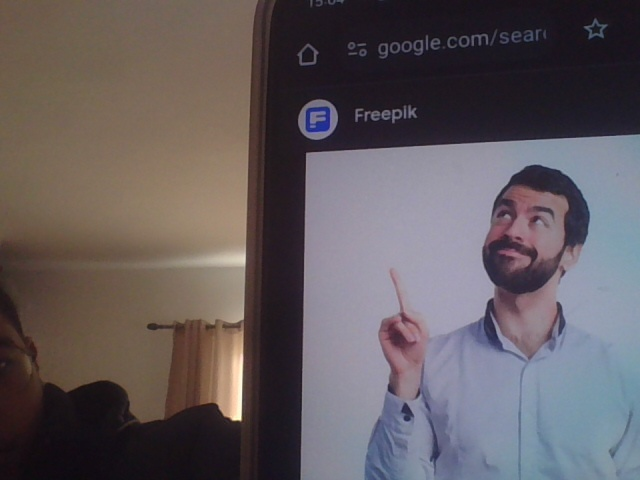fake: (476, 140, 584, 293)
